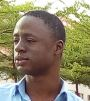without_facemask: (11, 47, 40, 78)
